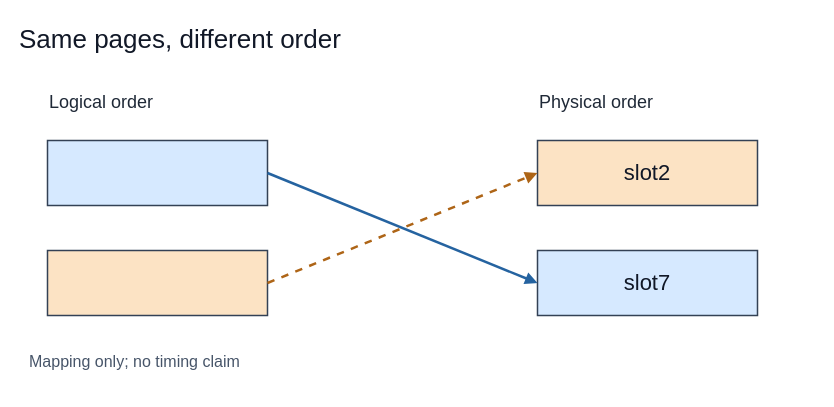
This 834x407 diagram has some shape labels left out. Each missing label, with the centre of its shape:
"L0" belongs at point (157, 172).
"L1" belongs at point (157, 282).
